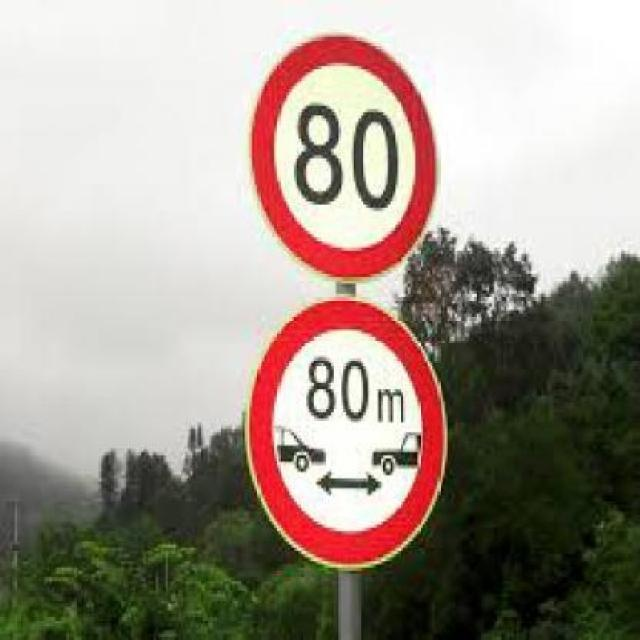forb_speed_over_80: (265, 30, 428, 278)
